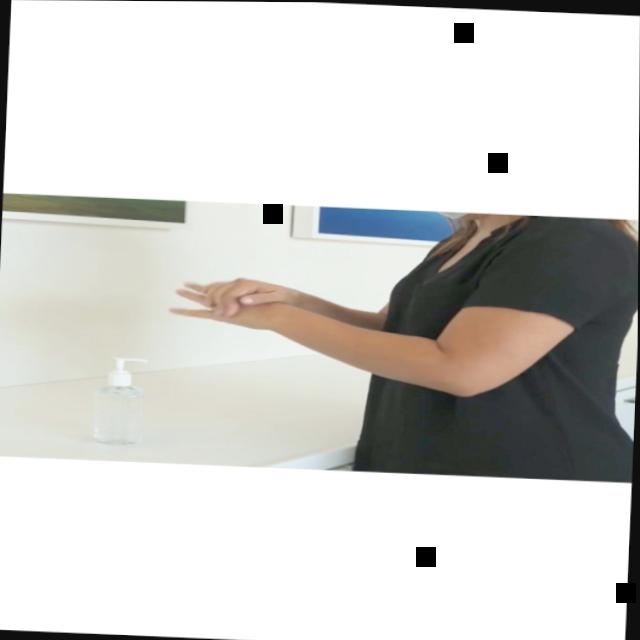Mask: (435, 208, 477, 221)
